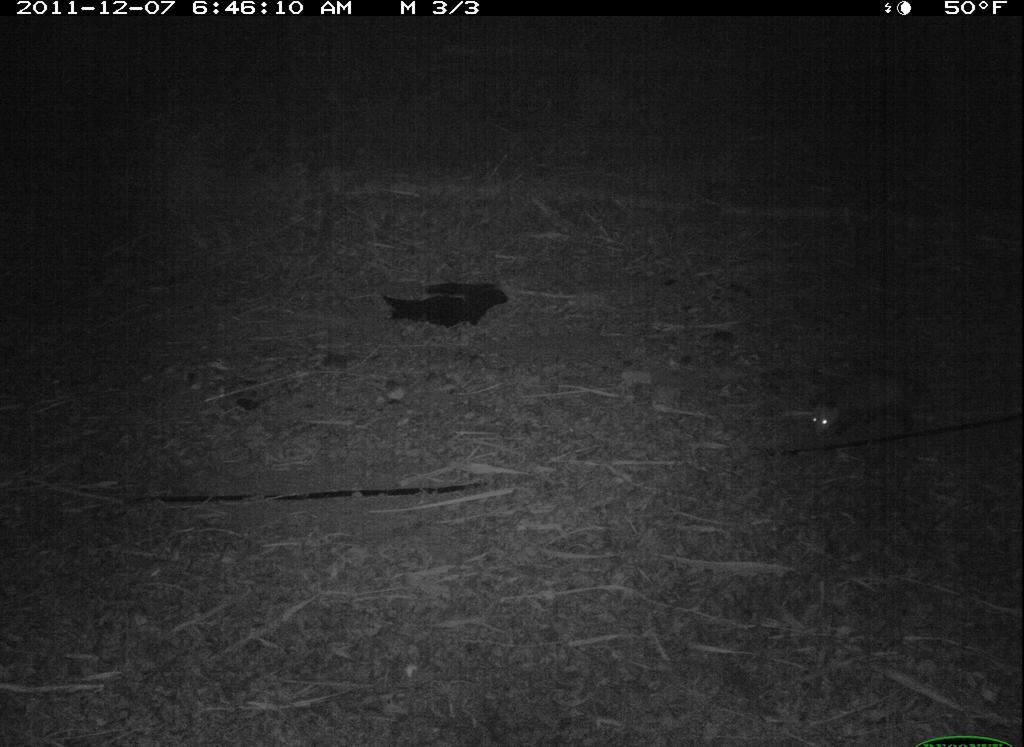opossum: (798, 361, 944, 447)
